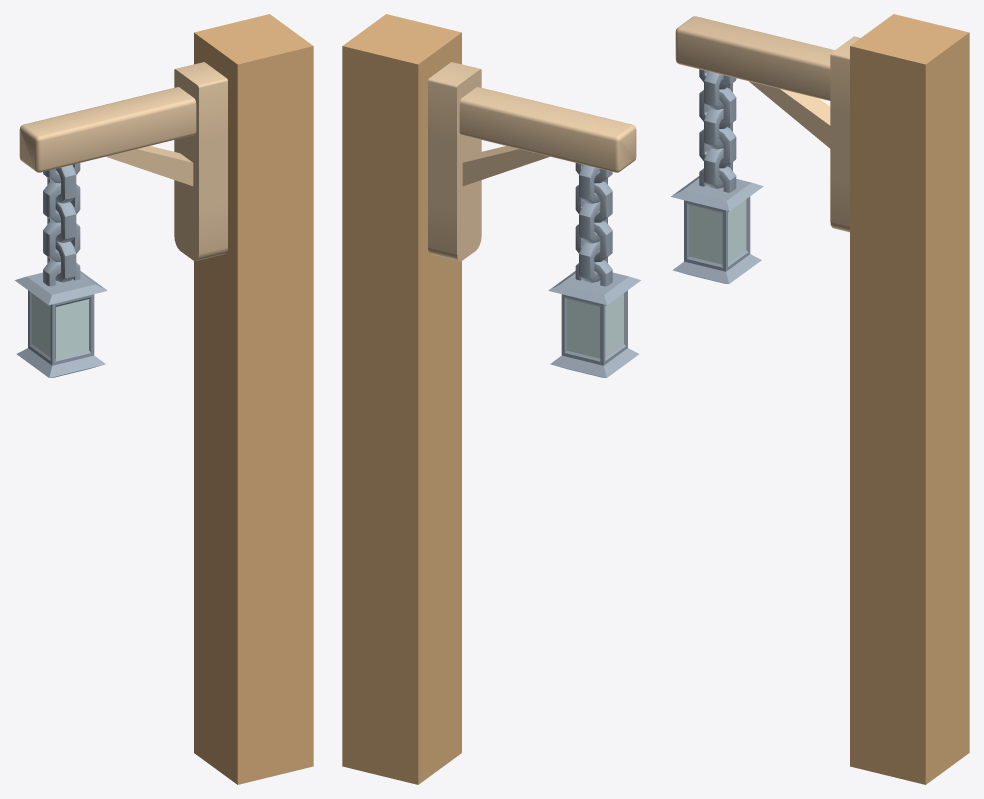
The model's file is WodenPillar(Lamp).fbx.
3 renders of one model, left to right at view 1: azimuth 30°, elevation 25°; view 2: azimuth 150°, elevation 25°; view 3: azimuth 330°, elevation 25°, orthographic.
Parts seen in each view (by area): view 1: Cube.024; view 2: Cube.024; view 3: Cube.024.
Part boxes in pixels (x1=…): Cube.024: x1=14, y1=14, x2=313, y2=784; Cube.024: x1=342, y1=14, x2=641, y2=784; Cube.024: x1=671, y1=14, x2=969, y2=784.
Bounding box in the file's own units: 68.94 × 180 × 19.81.
Materials: 1 (1 with a texture image).
